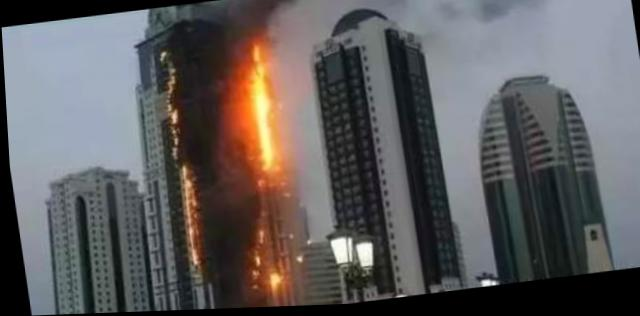fire: (160, 73, 209, 267), (233, 39, 286, 190), (241, 226, 279, 295)
